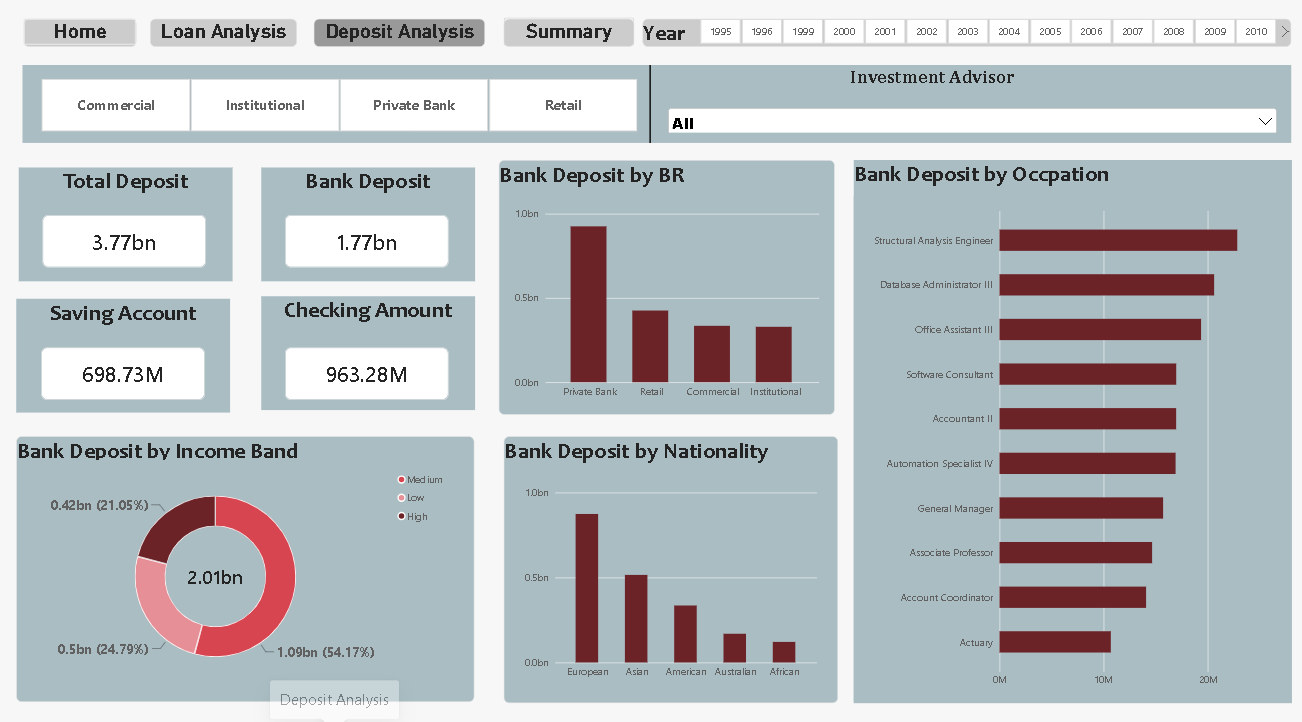

This screenshot's page, from the dashboard's own definition file:
{"tool":"powerbi","page":{"name":"Deposit Analysis","canvas":[1920,1080],"ordinal":2},"visuals":[{"type":"textbox","title":"Bank Deposit","box":[406.6,256.4,309.3,164.8],"z":0},{"type":"textbox","title":"Total Deposit","box":[55.2,256.4,309.3,164.8],"z":1000},{"type":"cardVisual","fields":{"Data":["banking customer.Total Deposit"]},"box":[90.6,324.9,237.1,76],"z":2000},{"type":"cardVisual","fields":{"Data":["Sum(banking customer.Bank Loans)"]},"box":[442,324.9,237.1,76],"z":3000},{"type":"textbox","title":"Saving Account ","box":[53,446.4,309.3,164.8],"z":4000},{"type":"cardVisual","fields":{"Data":["Sum(banking customer.Saving Accounts)"]},"box":[88.4,517.1,237.1,76],"z":5000},{"type":"textbox","title":"Checking Amount","box":[406.6,444.2,309.3,164.8],"z":6000},{"type":"cardVisual","fields":{"Data":["Sum(banking customer.Checking Accounts)"]},"box":[442,517.1,237.1,76],"z":7000},{"type":"textbox","title":"Bank Deposit by Income Band","box":[53,645.3,663,384.5],"z":8000},{"type":"textbox","title":"Bank Deposit by BR","box":[751.4,245.3,486.2,369.1],"z":9000},{"type":"textbox","title":"Bank Deposit by Nationality","box":[758,645.3,484,386.7],"z":10000},{"type":"textbox","title":"Bank Deposit by Occpation","box":[1264.1,245.3,634.3,786.7],"z":11000},{"type":"textbox","box":[61.9,108.3,1836.5,112.7],"z":12000},{"type":"textbox","title":"Home","box":[63,40.7,163,40.7],"z":13000},{"type":"textbox","title":"Loan Analysis","box":[246.3,40.7,213,40.7],"z":14000},{"type":"textbox","title":"Deposit Analysis","box":[483.3,40.7,248.1,40.7],"z":15000},{"type":"textbox","title":"Summary","box":[757.4,40.7,188.9,40.7],"z":16000},{"type":"textbox","title":"Year","box":[959.3,40.7,938.9,40.7],"z":17000},{"type":"actionButton","box":[63,40.7,161.1,38.9],"z":18000},{"type":"actionButton","box":[758,39.8,188.9,40.7],"z":19000},{"type":"donutChart","fields":{"Category":["banking customer.Income Band"],"Y":["Sum(banking customer.Bank Deposits)"]},"box":[61.9,680.7,636.5,338.1],"z":20000},{"type":"clusteredColumnChart","fields":{"Category":["banking customer.Banking Relationship"],"Y":["Sum(banking customer.Bank Deposits)"]},"box":[758,298.3,472.9,313.8],"z":21000},{"type":"clusteredColumnChart","fields":{"Category":["banking customer.Nationality"],"Y":["Sum(banking customer.Bank Deposits)"]},"box":[773.5,702.8,455.3,316],"z":22000},{"type":"barChart","fields":{"Category":["banking customer.Occupation"],"Y":["Sum(banking customer.Bank Deposits)"]},"box":[1264.1,298.3,618.8,731.5],"z":23000},{"type":"slicer","fields":{"Values":["banking customer.Year of Joining"]},"box":[1023.2,39.8,872.9,39.8],"z":24000},{"type":"slicer","fields":{"Values":["banking customer.Banking Relationship"]},"box":[68.5,126,901.7,79.6],"z":25000},{"type":"shape","box":[959.1,108.3,22.1,112.7],"z":26000},{"type":"slicer","fields":{"Values":["banking customer.IAId"]},"box":[992.3,165.7,890.6,39.8],"z":27000},{"type":"textbox","title":"Investment Advisor","box":[1228.7,108.3,300.6,39.8],"z":28000},{"type":"actionButton","box":[245.3,39.8,212.2,39.8],"z":29000}]}

Visuals, with their boxes in screenshot pixels (x1, y1, x2, y2), scaled from the page's 1920x1080 canvas onto the 1302x722 screenshot:
"Bank Deposit" textbox: [276,171,485,282]
"Total Deposit" textbox: [37,171,247,282]
cardVisual - banking customer.Total Deposit: [61,217,222,268]
cardVisual - Sum(banking customer.Bank Loans): [300,217,461,268]
"Saving Account " textbox: [36,298,246,409]
cardVisual - Sum(banking customer.Saving Accounts): [60,346,221,396]
"Checking Amount" textbox: [276,297,485,407]
cardVisual - Sum(banking customer.Checking Accounts): [300,346,461,396]
"Bank Deposit by Income Band" textbox: [36,431,486,688]
"Bank Deposit by BR" textbox: [510,164,839,411]
"Bank Deposit by Nationality" textbox: [514,431,842,690]
"Bank Deposit by Occpation" textbox: [857,164,1287,690]
textbox: [42,72,1287,148]
"Home" textbox: [43,27,153,54]
"Loan Analysis" textbox: [167,27,311,54]
"Deposit Analysis" textbox: [328,27,496,54]
"Summary" textbox: [514,27,642,54]
"Year" textbox: [651,27,1287,54]
actionButton: [43,27,152,53]
actionButton: [514,27,642,54]
donutChart - banking customer.Income Band x Sum(banking customer.Bank Deposits): [42,455,474,681]
clusteredColumnChart - banking customer.Banking Relationship x Sum(banking customer.Bank Deposits): [514,199,835,409]
clusteredColumnChart - banking customer.Nationality x Sum(banking customer.Bank Deposits): [525,470,833,681]
barChart - banking customer.Occupation x Sum(banking customer.Bank Deposits): [857,199,1277,688]
slicer - banking customer.Year of Joining: [694,27,1286,53]
slicer - banking customer.Banking Relationship: [46,84,658,137]
shape: [650,72,665,148]
slicer - banking customer.IAId: [673,111,1277,137]
"Investment Advisor" textbox: [833,72,1037,99]
actionButton: [166,27,310,53]
